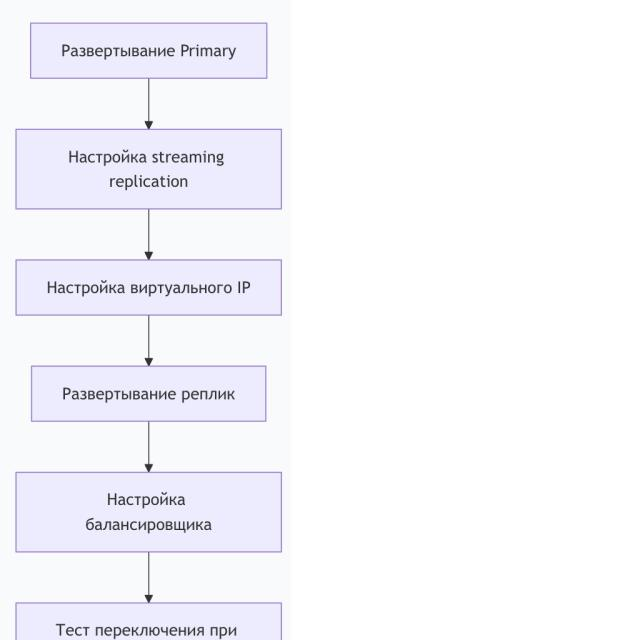arrow: (145, 210, 153, 259), (145, 316, 153, 365), (145, 422, 153, 471), (145, 79, 152, 129), (148, 552, 149, 591)
rectangle: (16, 472, 281, 552), (16, 129, 281, 209), (16, 259, 281, 315), (32, 365, 266, 421), (30, 23, 267, 78)
